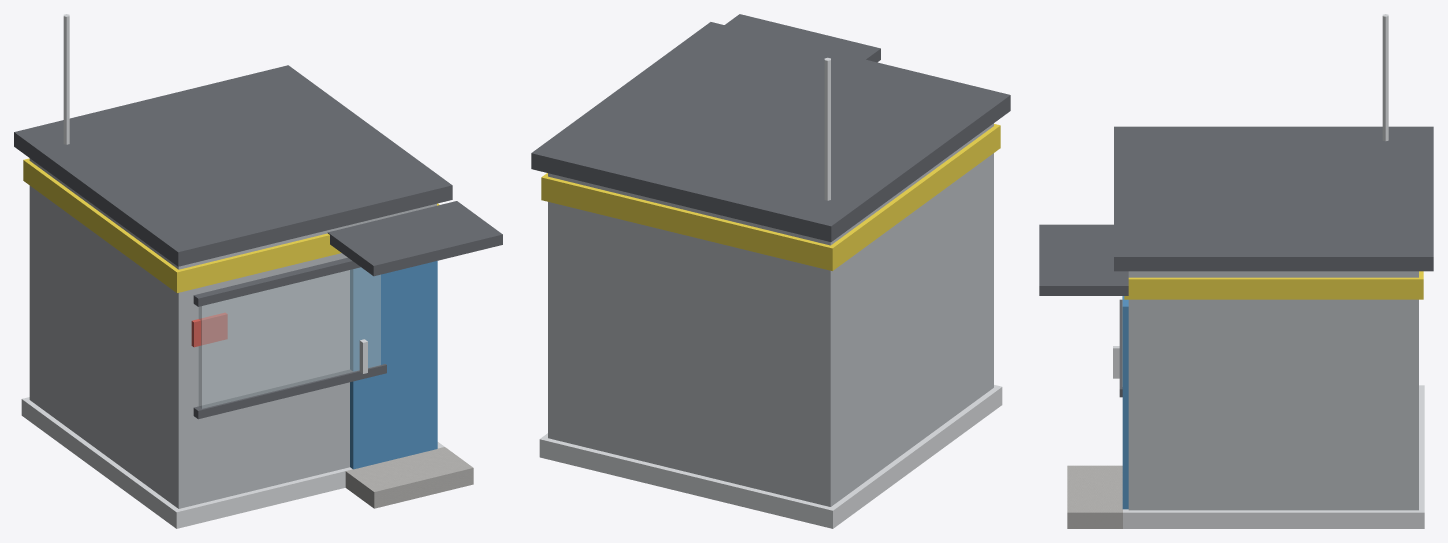
The model's file is ferry-terminal-and-harbour-crossing-ferry-terminal-and-893f2862__35643.glb.
3 renders of one model, left to right at view 1: azimuth 30°, elevation 25°; view 2: azimuth 150°, elevation 25°; view 3: azimuth 270°, elevation 25°, orthographic. The views are drawn at different scales.
Parts seen in each view (by area): view 1: ferry-terminal-and-harbour-crossing-staff-hut; view 2: ferry-terminal-and-harbour-crossing-staff-hut; view 3: ferry-terminal-and-harbour-crossing-staff-hut.
Part boxes in pixels (<box>): ferry-terminal-and-harbour-crossing-staff-hut: <box>14,14,502,528</box>; ferry-terminal-and-harbour-crossing-staff-hut: <box>531,14,1010,528</box>; ferry-terminal-and-harbour-crossing-staff-hut: <box>1039,14,1433,528</box>.
Bounding box in the file's own units: 2.88 × 3.93 × 3.53.
8 materials, 1 textured.
